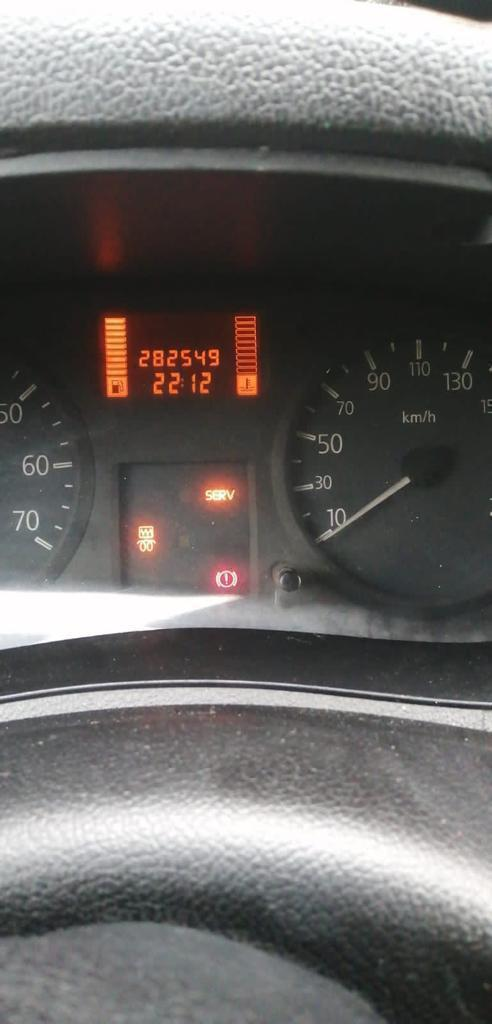1: (190, 372, 197, 394)
2: (151, 371, 165, 394), (198, 370, 211, 394), (167, 371, 180, 394), (165, 348, 178, 367), (137, 349, 150, 367)
4: (193, 349, 205, 366)
5: (179, 348, 192, 367)
8: (151, 349, 164, 367)
9: (207, 348, 219, 367)
X: (180, 376, 184, 389)
odometer: (90, 307, 267, 404)
